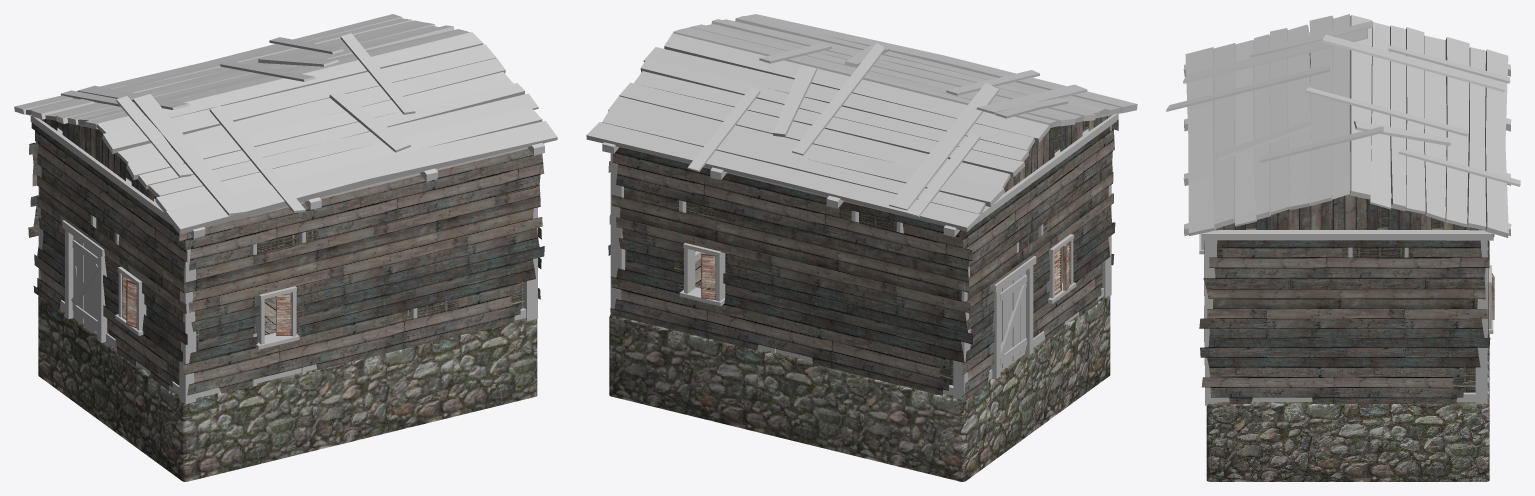
File: House8_LOD1.fbx
The picture shows the model from 3 angles, left to right: view 1: azimuth 30°, elevation 25°; view 2: azimuth 150°, elevation 25°; view 3: azimuth 270°, elevation 25°; orthographic projection. The views are drawn at different scales.
Visible parts, largest first — view 1: Base, Roof, Floor, Doors; view 2: Base, Roof, Floor, Doors; view 3: Roof, Base, Floor.
Part boxes in pixels (x1,y1,x2,y2): Base: (28,123,544,404); Roof: (14,14,557,238); Floor: (38,294,537,481); Doors: (71,236,97,332); Base: (608,120,1118,402); Roof: (586,14,1137,236); Floor: (609,257,1110,481); Doors: (1000,271,1027,368); Roof: (1166,14,1520,240); Base: (1199,76,1494,405); Floor: (1206,241,1489,481).
Size of the model in its own units: 10.7 by 8.53 by 8.81.
